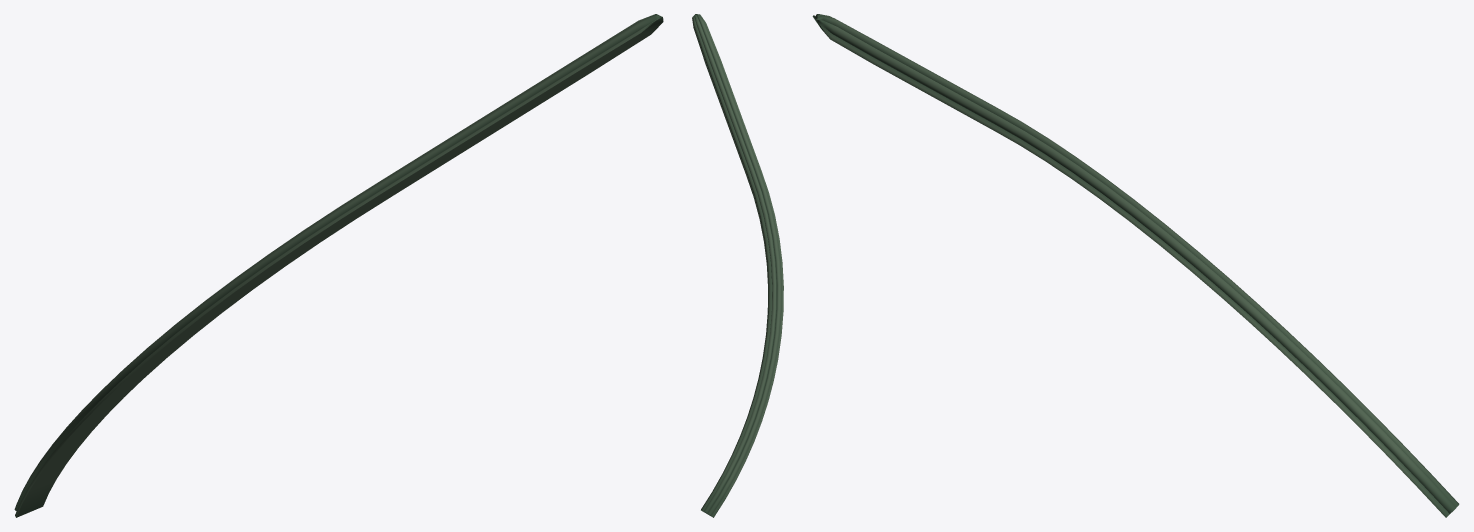
Rendered from trees-plants-saplings-green-stem_v3.glb.
The picture shows the model from 3 angles, left to right: view 1: azimuth 30°, elevation 25°; view 2: azimuth 150°, elevation 25°; view 3: azimuth 270°, elevation 25°; orthographic projection. The views are drawn at different scales.
Parts seen in each view (by area): view 1: Green Stem_v3; view 2: Green Stem_v3; view 3: Green Stem_v3.
Boxes of the visible parts, x1,y1,x2,y2 form: Green Stem_v3: (14,14,663,517); Green Stem_v3: (692,14,783,517); Green Stem_v3: (812,14,1459,517).
Size of the model in its own units: 0.2959 by 0.5 by 0.4398.
